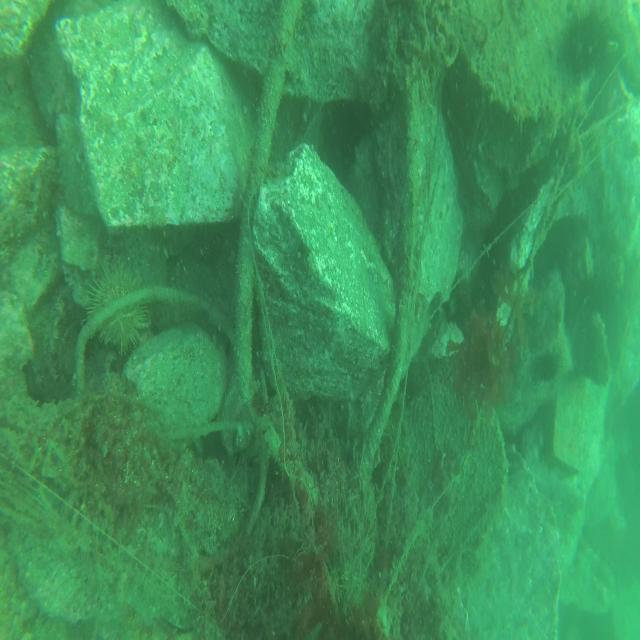echinus: (90, 266, 150, 350), (561, 6, 609, 74)
